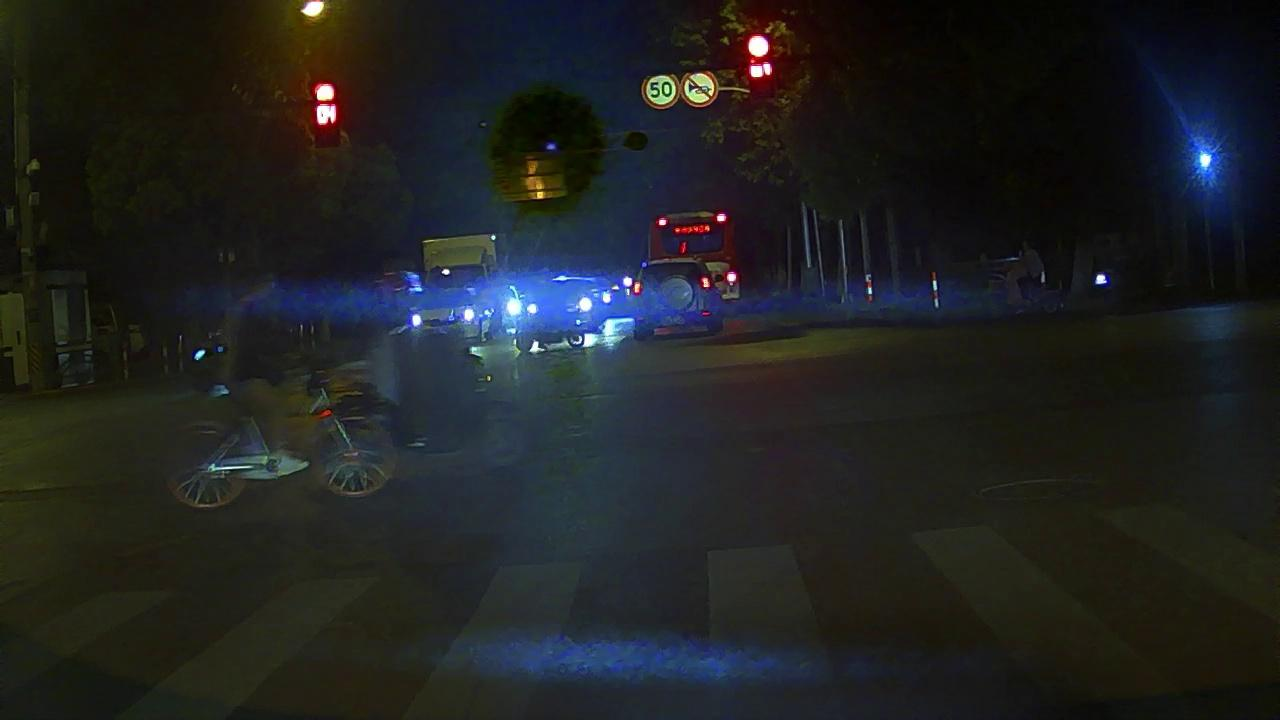traffic_light: (311, 74, 339, 147), (747, 33, 774, 104)
